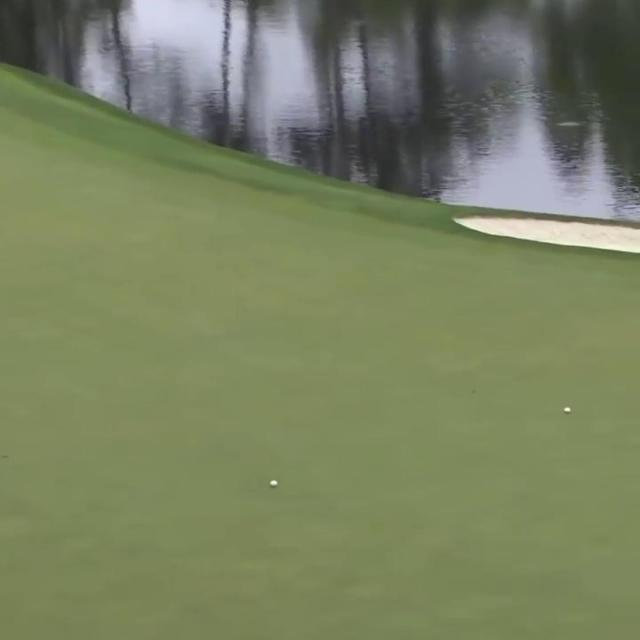GolfBall: (269, 480, 279, 487), (564, 408, 572, 413)
